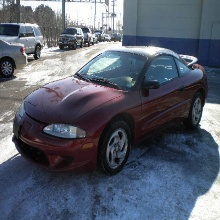no damage: (11, 47, 209, 175), (1, 21, 43, 77), (59, 26, 104, 53)
